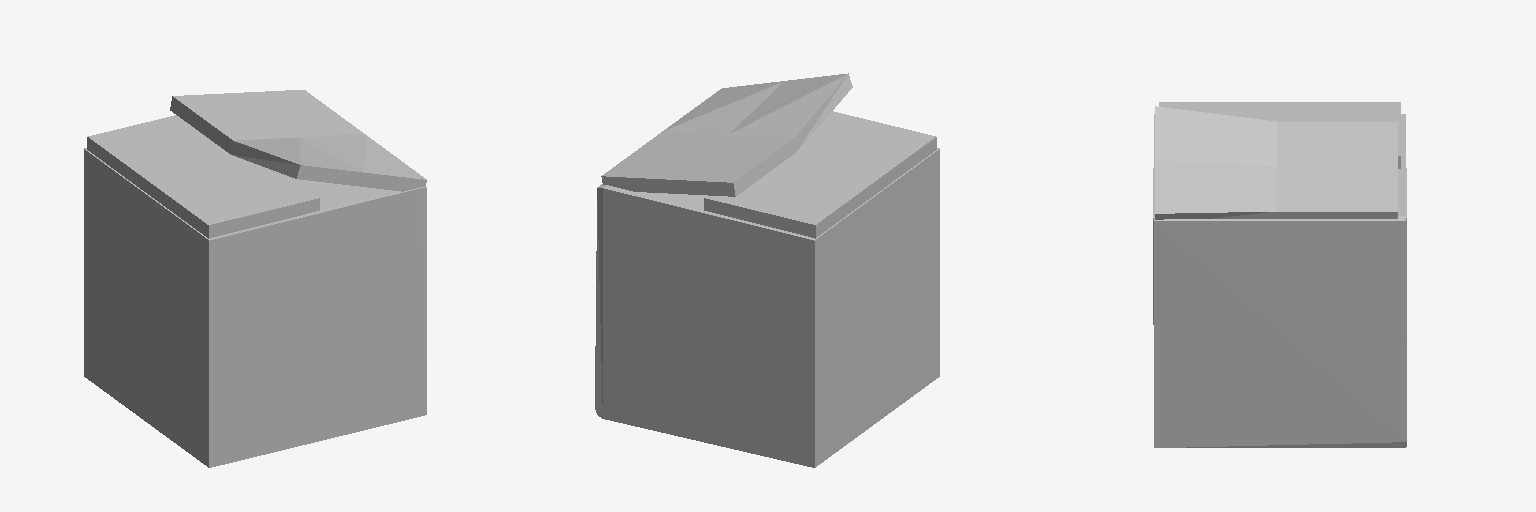
The model's file is cardboardBox.obj.
3 renders of one model, left to right at view 1: azimuth 30°, elevation 25°; view 2: azimuth 150°, elevation 25°; view 3: azimuth 270°, elevation 25°, orthographic.
Visible parts, largest first — view 1: pCube6; view 2: pCube6; view 3: pCube6.
Boxes of the visible parts, x1=… form: pCube6: x1=84, y1=90, x2=426, y2=467; pCube6: x1=595, y1=73, x2=939, y2=467; pCube6: x1=1153, y1=102, x2=1406, y2=447.
Bounding box in the file's own units: 0.9642 × 1.19 × 0.9707.